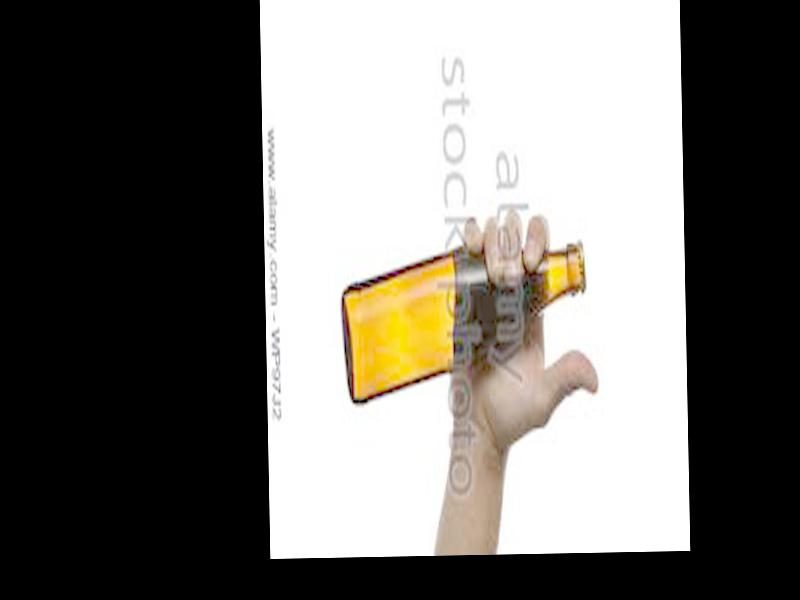Beer: (341, 237, 585, 407)
